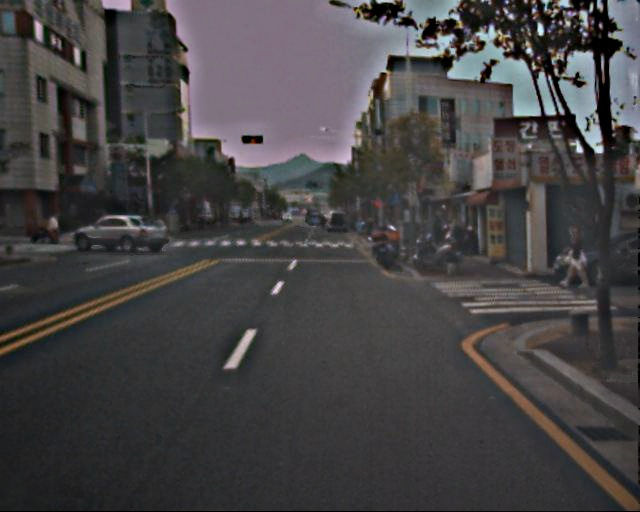person: (557, 223, 588, 292)
